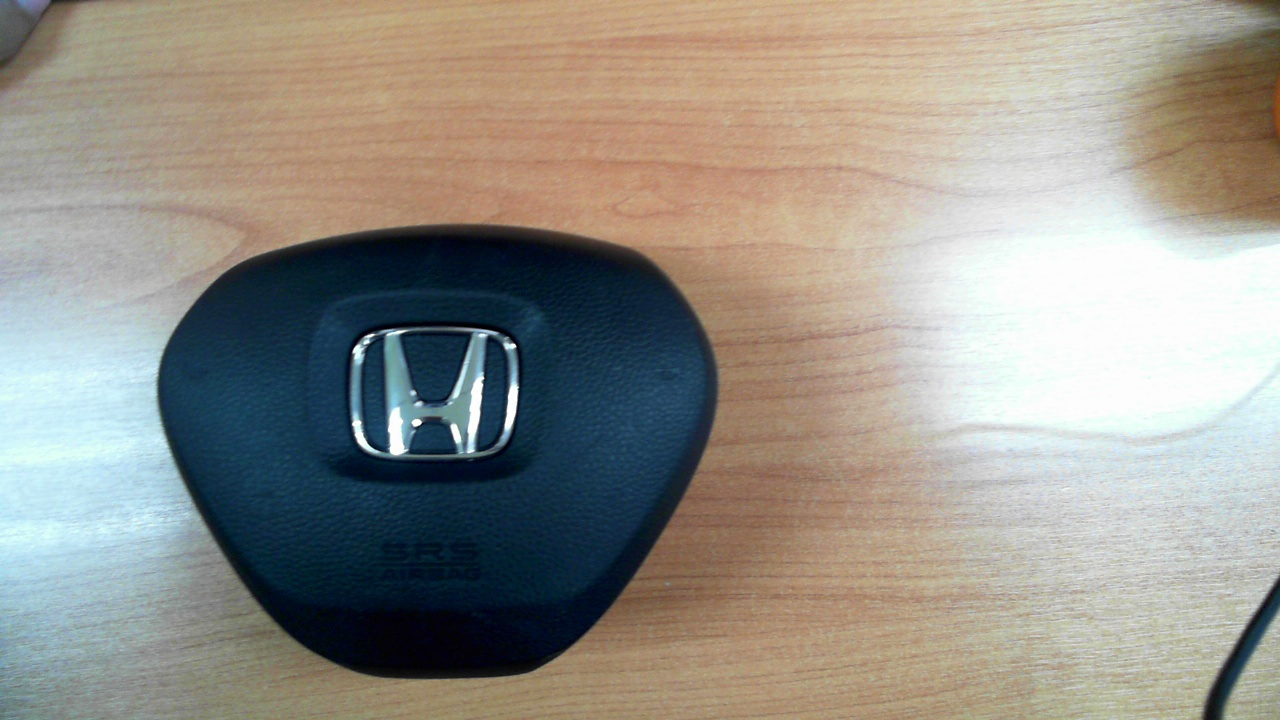Airbag: (157, 224, 719, 680)
Honda: (349, 325, 520, 459)
